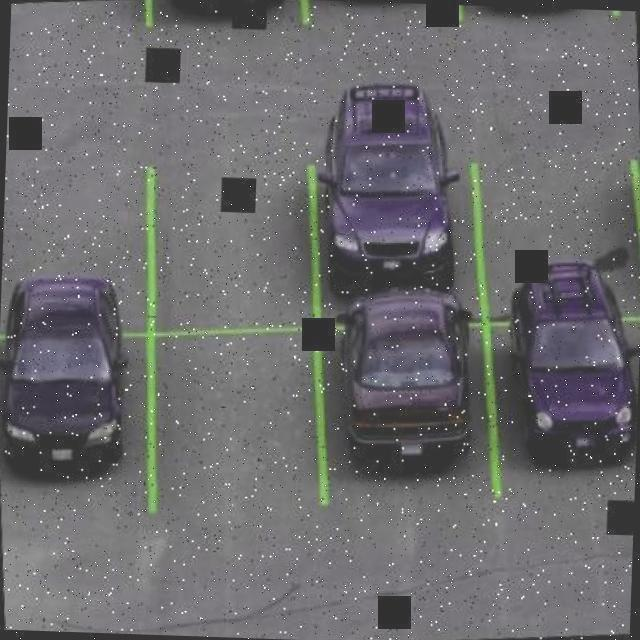empty: (153, 323, 327, 536), (167, 146, 318, 326), (484, 136, 640, 264), (2, 163, 134, 283)
occupied: (318, 72, 463, 289), (510, 264, 640, 470), (336, 289, 476, 479), (3, 281, 138, 477), (480, 6, 595, 13)
